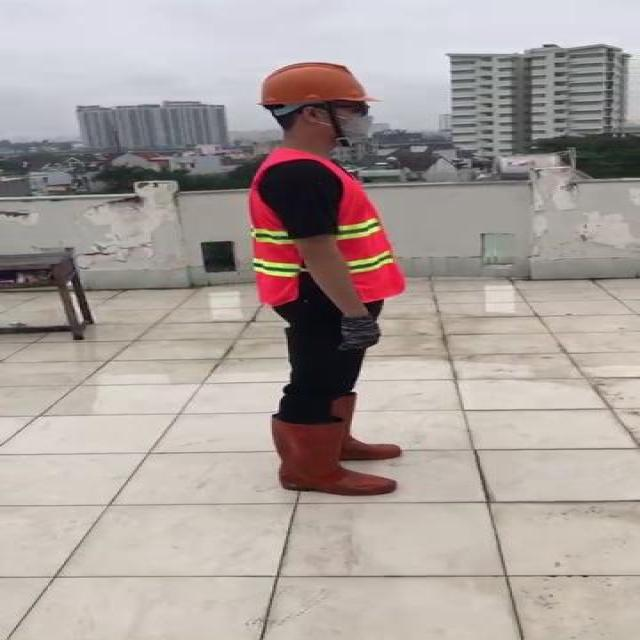boots: (259, 416, 396, 501), (303, 392, 405, 462)
face_mask: (318, 100, 381, 142)
hand_glove: (329, 316, 400, 351)
head_helmet: (256, 60, 375, 106)
person: (238, 58, 418, 500)
vest: (245, 149, 406, 307)
